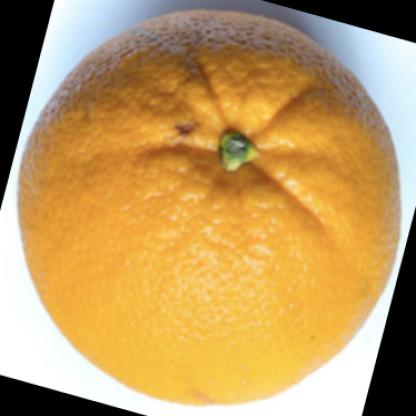orange: (20, 11, 404, 405)
